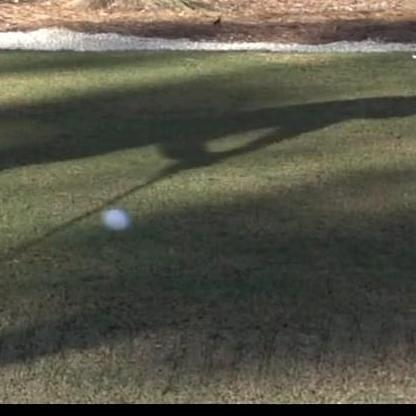golfball: (99, 205, 128, 233)
